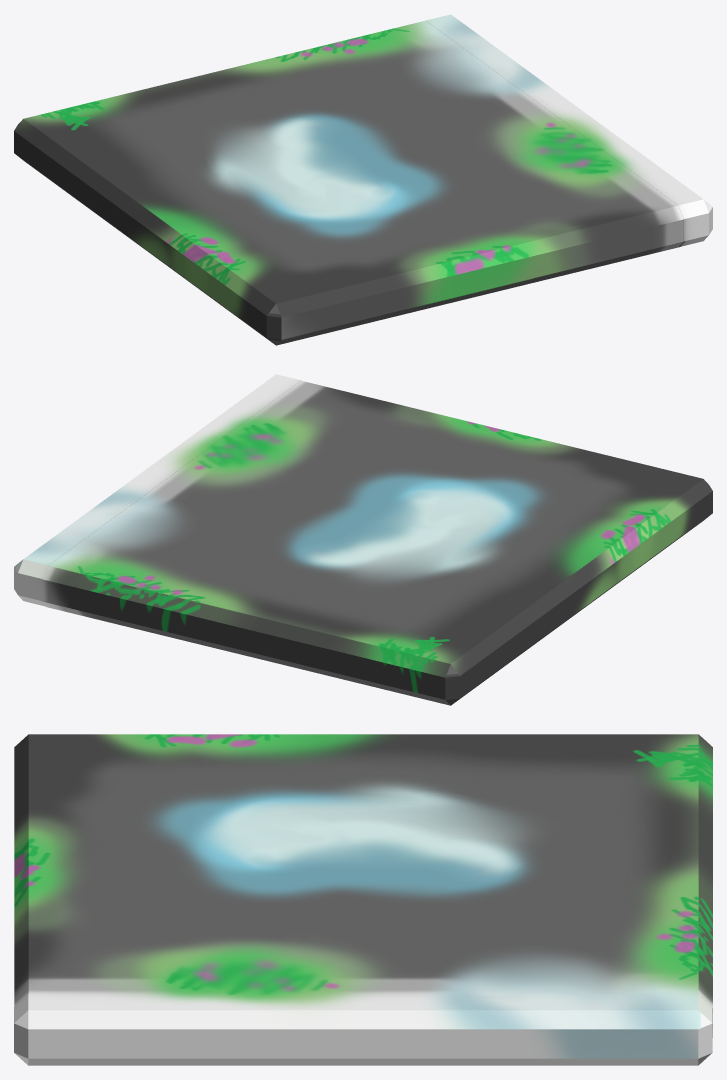
File: calcadatextura5.fbx
The picture shows the model from 3 angles, top to bottom: view 1: azimuth 30°, elevation 25°; view 2: azimuth 150°, elevation 25°; view 3: azimuth 270°, elevation 25°; orthographic projection. The views are drawn at different scales.
Visible parts, largest first — view 1: Cube; view 2: Cube; view 3: Cube.
Boxes of the visible parts, x1,y1,x2,y2 form: Cube: (14,14,712,345); Cube: (14,374,712,705); Cube: (14,734,712,1065).
Size of the model in its own units: 474 by 42.74 by 485.
